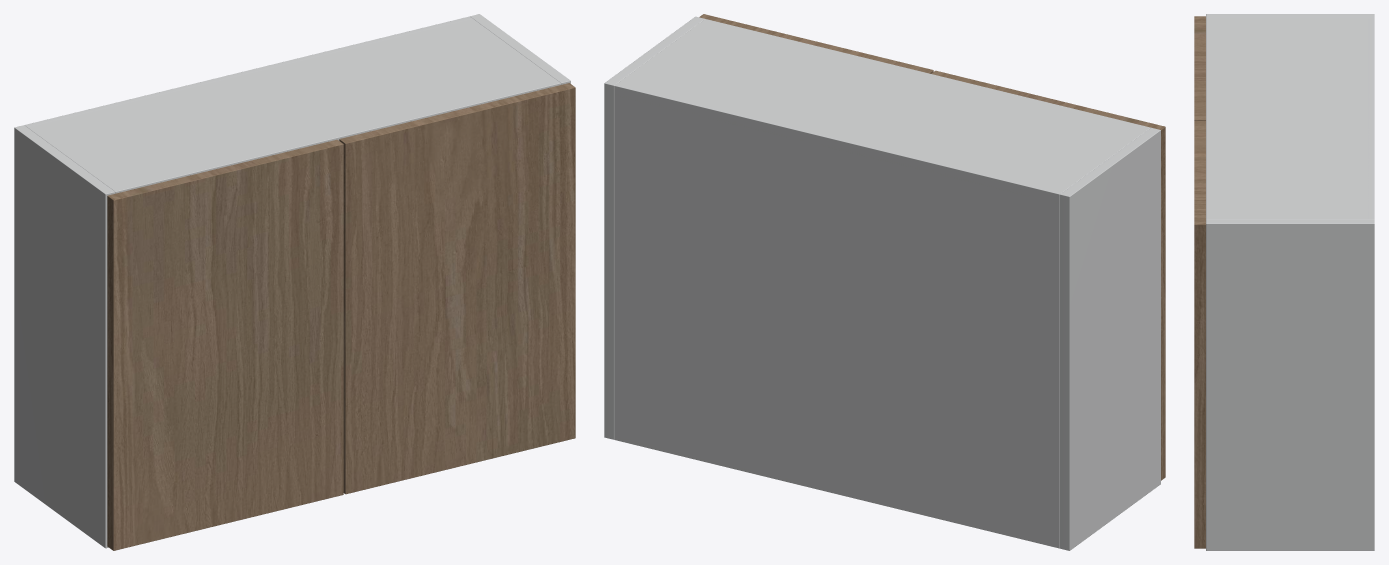
File: oppein-ply-mnw-w3324.glb
3 renders of one model, left to right at view 1: azimuth 30°, elevation 25°; view 2: azimuth 150°, elevation 25°; view 3: azimuth 270°, elevation 25°, orthographic. The views are drawn at different scales.
Parts seen in each view (by area): view 1: Door, Door.001, Cabinet top, Cabinet side, Cabinet back, Cabinet side.001; view 2: Cabinet back, Cabinet top, Cabinet side, Cabinet side.001, Door, Door.001; view 3: Cabinet side.001, Cabinet top, Door.001, Cabinet back, Door, Cabinet side.
Boxes of the visible parts, left/top/right/bottom form: Door: left=107, top=139, right=343, bottom=550; Door.001: left=339, top=83, right=575, bottom=494; Cabinet top: left=28, top=16, right=560, bottom=193; Cabinet side: left=14, top=125, right=115, bottom=548; Cabinet back: left=24, top=16, right=472, bottom=127; Cabinet side.001: left=470, top=14, right=570, bottom=84; Cabinet back: left=614, top=83, right=1062, bottom=548; Cabinet top: left=614, top=19, right=1150, bottom=203; Cabinet side: left=1060, top=127, right=1160, bottom=550; Cabinet side.001: left=604, top=16, right=704, bottom=439; Door: left=931, top=70, right=1165, bottom=480; Door.001: left=699, top=14, right=933, bottom=73; Cabinet side.001: left=1206, top=219, right=1374, bottom=550; Cabinet top: left=1206, top=18, right=1374, bottom=219; Door.001: left=1194, top=121, right=1205, bottom=548; Cabinet back: left=1368, top=18, right=1374, bottom=219; Door: left=1194, top=16, right=1205, bottom=120; Cabinet side: left=1206, top=14, right=1374, bottom=18.
Size of the model in its own units: 0.8382 by 0.6096 by 0.3048.
2 materials, 1 textured.
